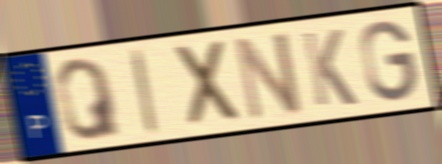G: (358, 18, 420, 105)
I: (127, 45, 161, 138)
K: (299, 27, 360, 110)
N: (232, 28, 306, 125)
Q: (52, 55, 125, 143)
X: (171, 36, 245, 131)
